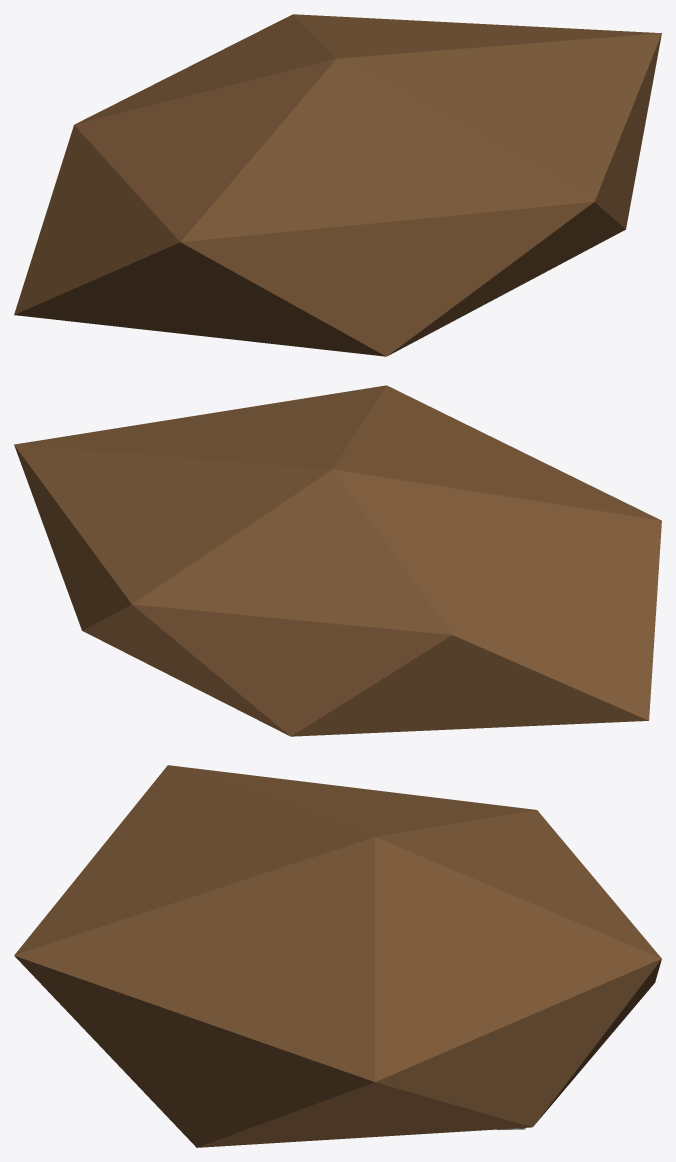
File: HS_LP_Ground_Mound_01.fbx
3 renders of one model, top to bottom at view 1: azimuth 30°, elevation 25°; view 2: azimuth 150°, elevation 25°; view 3: azimuth 270°, elevation 25°, orthographic. The views are drawn at different scales.
Parts seen in each view (by area): view 1: HS_LP_Ground_Mound_01; view 2: HS_LP_Ground_Mound_01; view 3: HS_LP_Ground_Mound_01.
Part boxes in pixels (left/top/right/bottom): HS_LP_Ground_Mound_01: left=14, top=14, right=661, bottom=356; HS_LP_Ground_Mound_01: left=14, top=385, right=661, bottom=736; HS_LP_Ground_Mound_01: left=14, top=765, right=661, bottom=1147.
Bounding box in the file's own units: 107 × 30.45 × 80.36.
